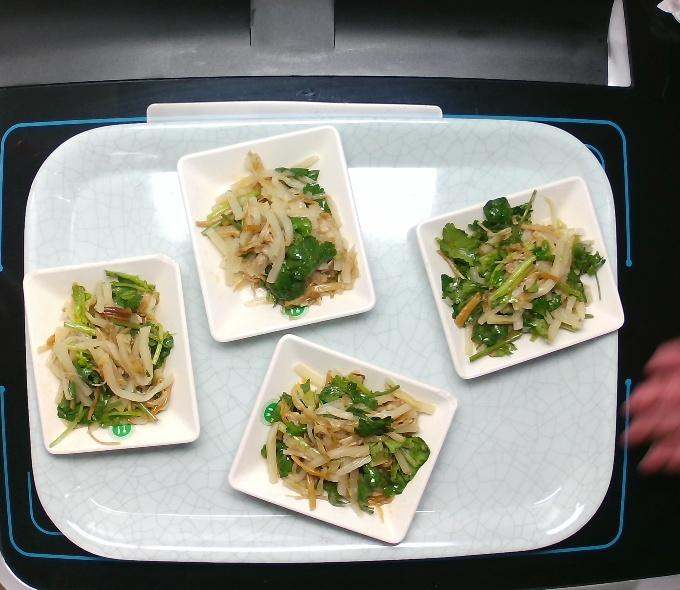wcq-LiangBanJinZhenGu: (427, 182, 613, 369), (249, 353, 441, 522), (189, 144, 363, 318), (35, 267, 178, 454)
